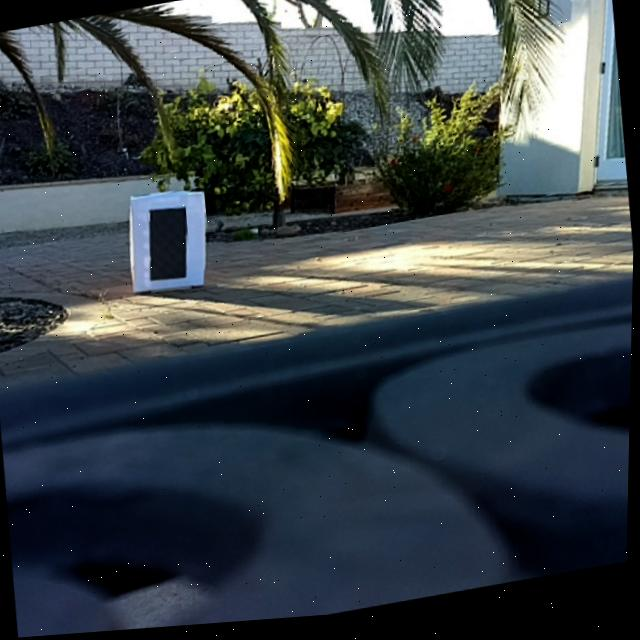led: (146, 207, 193, 284)
